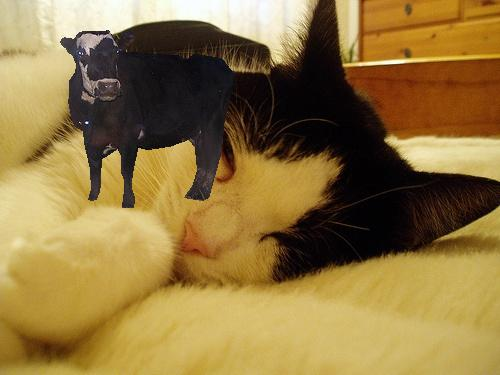tampered: (61, 31, 235, 208)
